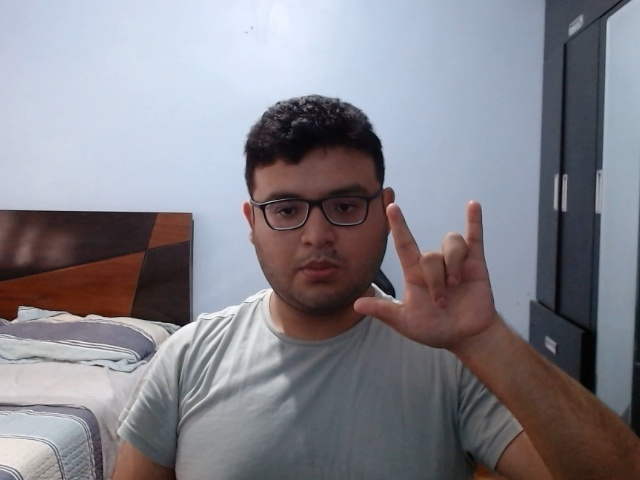I love you: (352, 196, 518, 362)
